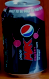pepsi: (1, 1, 45, 75)
